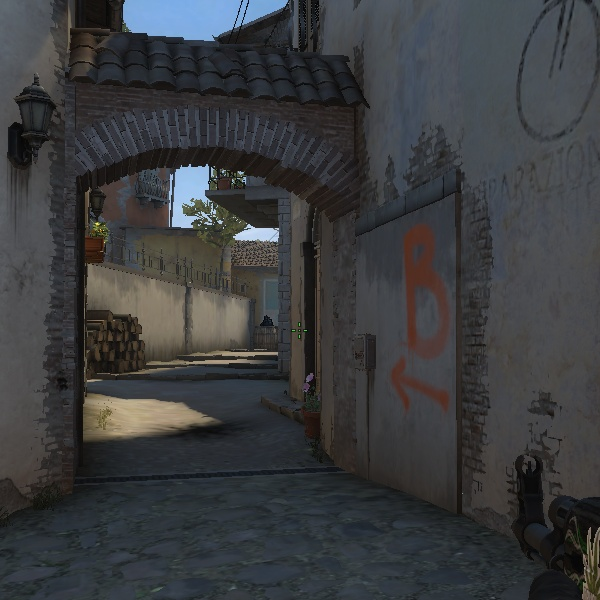ct_head: (203, 159, 252, 202)
